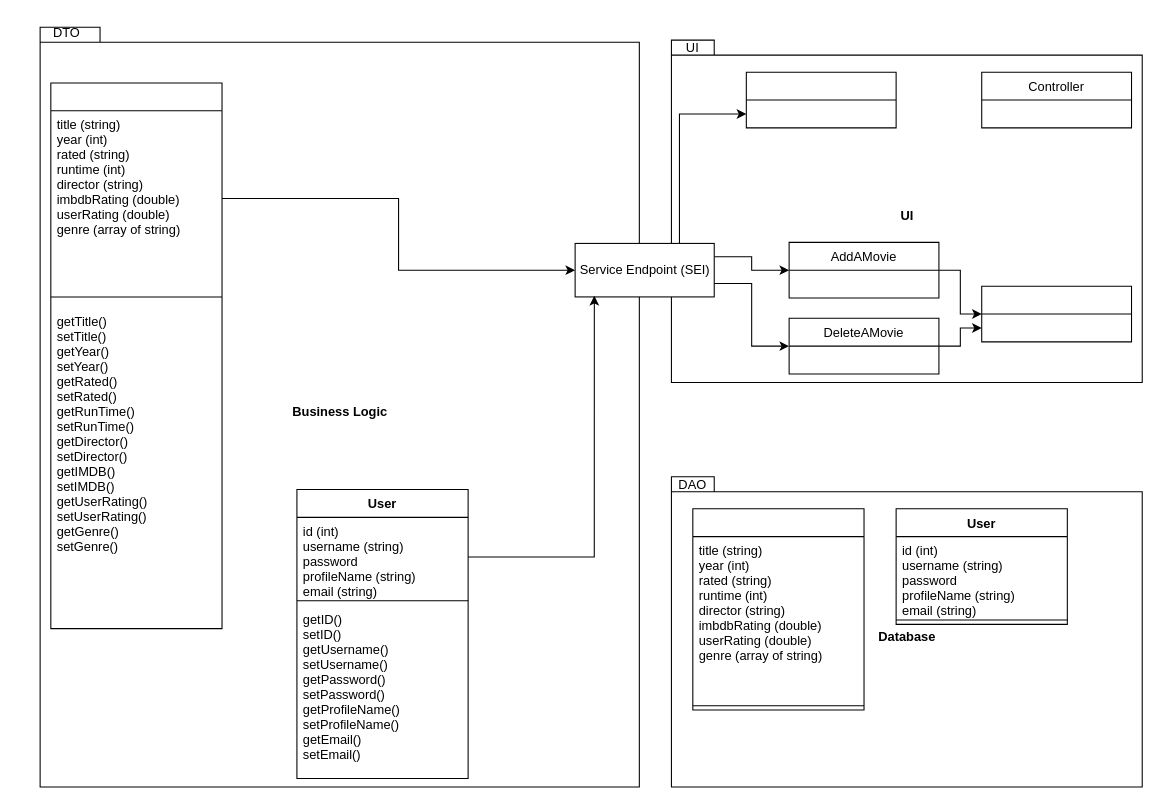
This 1161x806 diagram has some shape labels left out. Each missing label, with the box of its shape:
Login: (745, 71, 896, 128)
Movie: (50, 82, 222, 629)
Movies: (692, 508, 864, 710)
MyRecipeScreen: (981, 285, 1132, 342)
